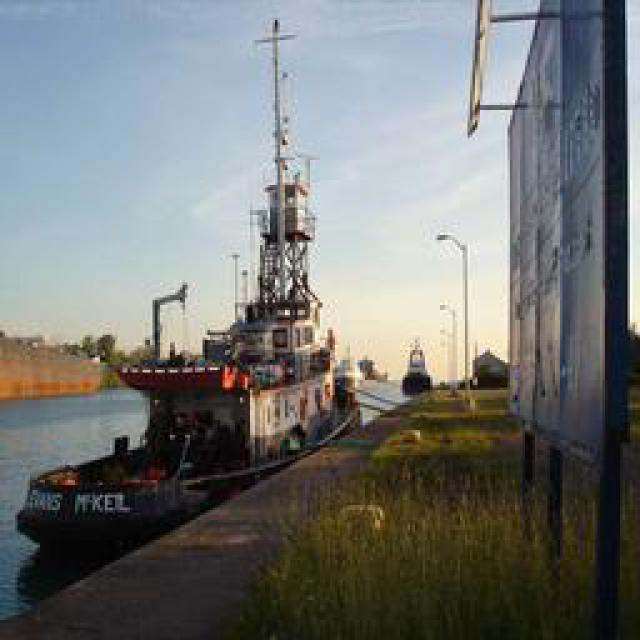Ship: (19, 26, 369, 561)
